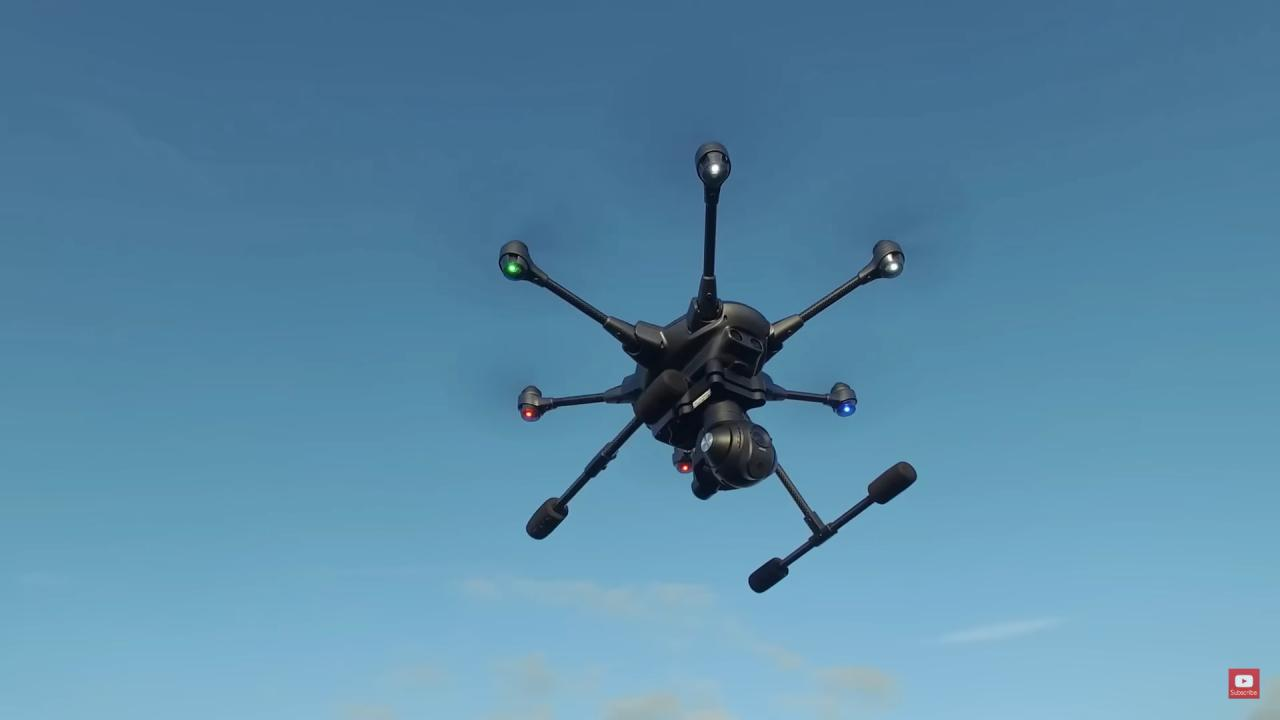Drone: (487, 128, 929, 607)
